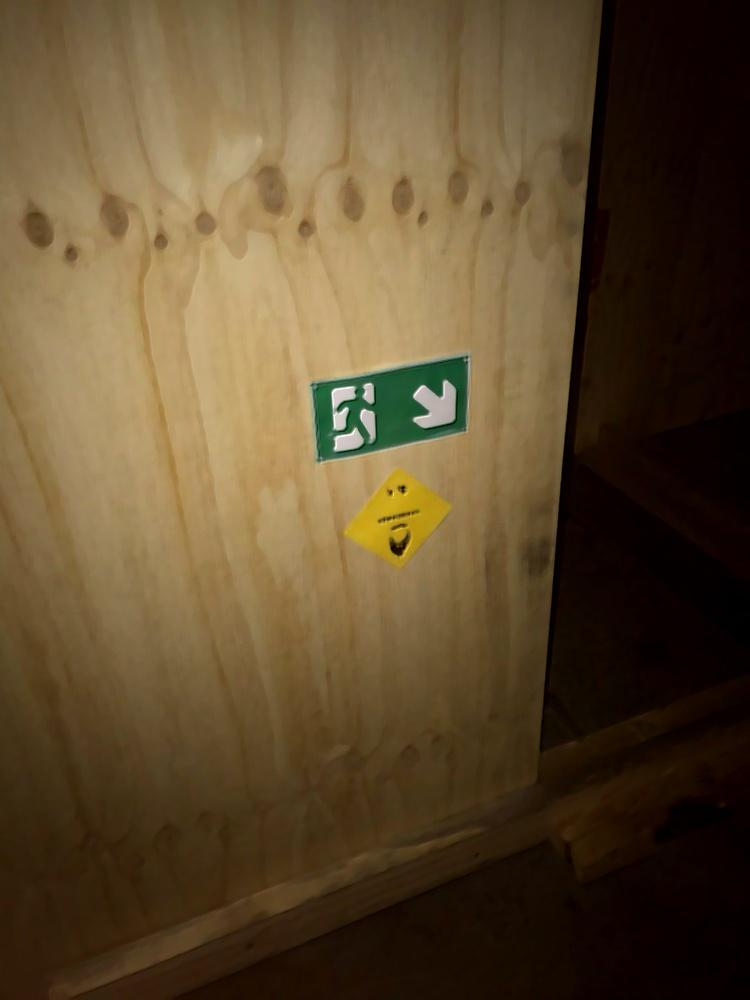oxidizer: (340, 466, 458, 573)
